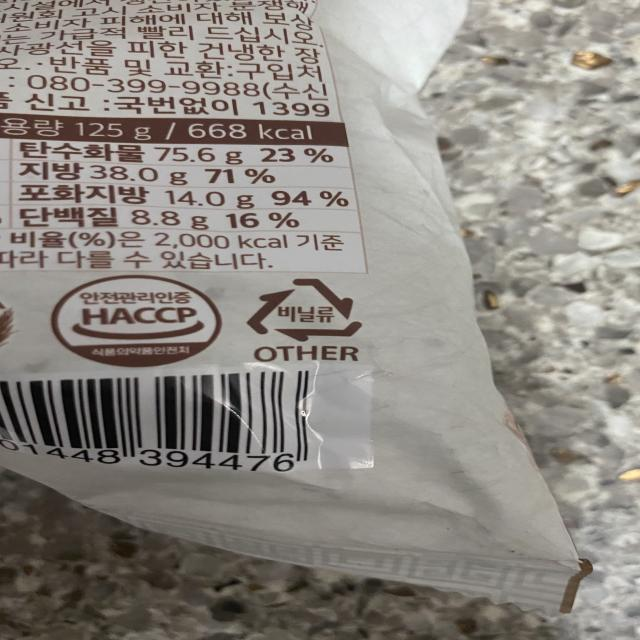Vinyl: (238, 275, 375, 342)
